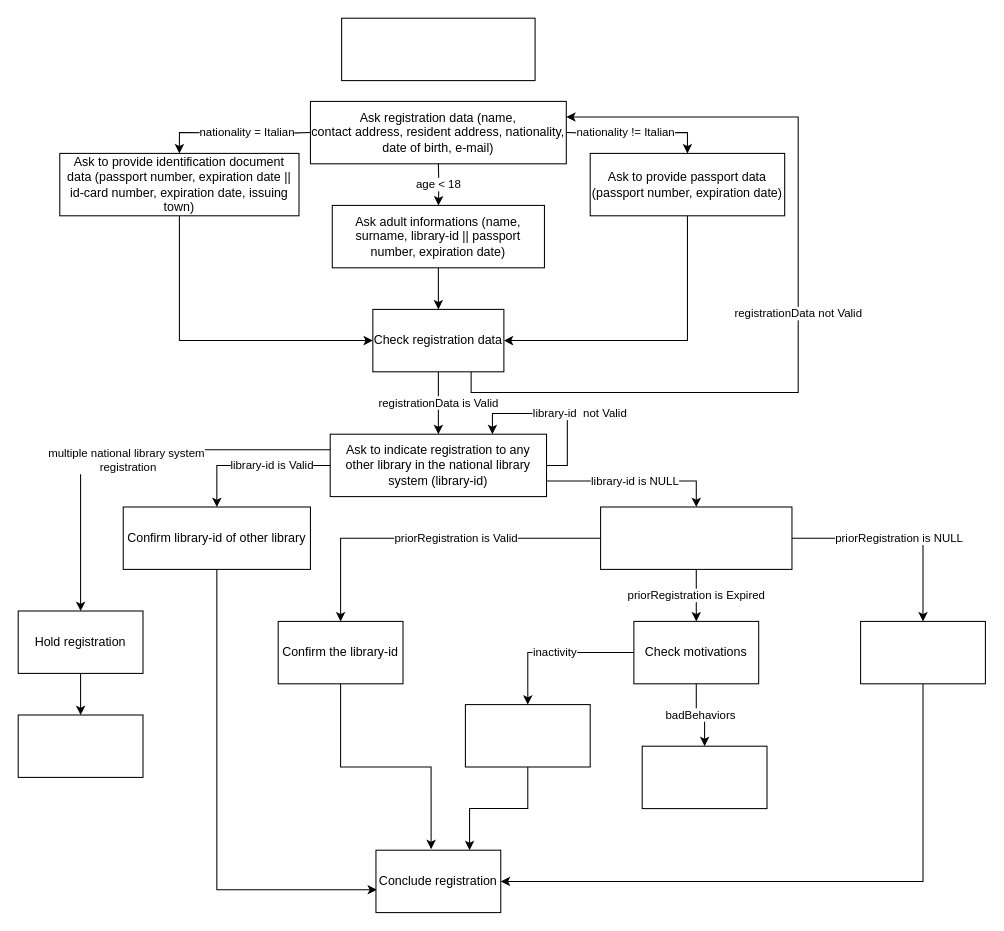
The diagram is 1004 pixels wide and 931 high, and some of its shapes have lost their labels. Each missing label, with the box of its shape:
Check for the existence of a prior registration: (600, 506, 792, 569)
Deny registration: (641, 745, 767, 809)
Issue new library-id: (860, 620, 985, 684)
Library registration system: (341, 17, 535, 81)
Renew library-id: (464, 704, 590, 767)
Signal anomaly to operator: (17, 714, 143, 777)
